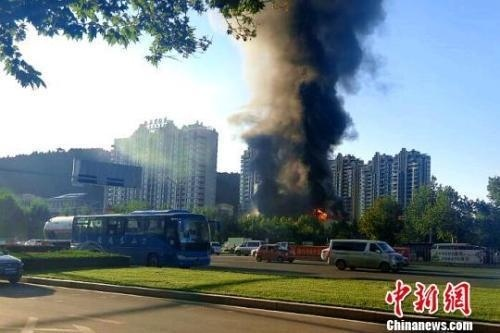fire: (314, 206, 329, 220)
